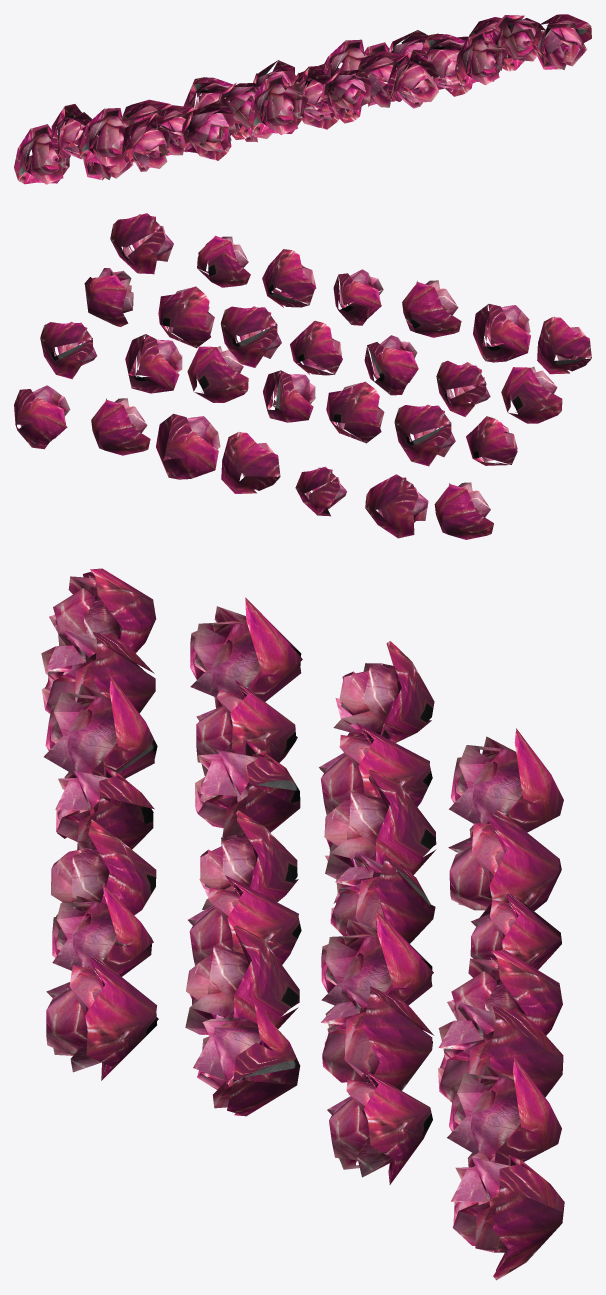
Rendered from nt_hydro_plant_red_LOD1.obj.
3 renders of one model, top to bottom at view 1: azimuth 30°, elevation 25°; view 2: azimuth 150°, elevation 25°; view 3: azimuth 270°, elevation 25°, orthographic. The views are drawn at different scales.
Visible parts, largest first — view 1: mtl_hydro_plant_red; view 2: mtl_hydro_plant_red; view 3: mtl_hydro_plant_red.
Part boxes in pixels (left/top/right/bottom): mtl_hydro_plant_red: left=14, top=14, right=591, bottom=184; mtl_hydro_plant_red: left=14, top=213, right=591, bottom=539; mtl_hydro_plant_red: left=41, top=568, right=564, bottom=1280.
Bounding box in the file's own units: 288 × 91.8 × 137.
